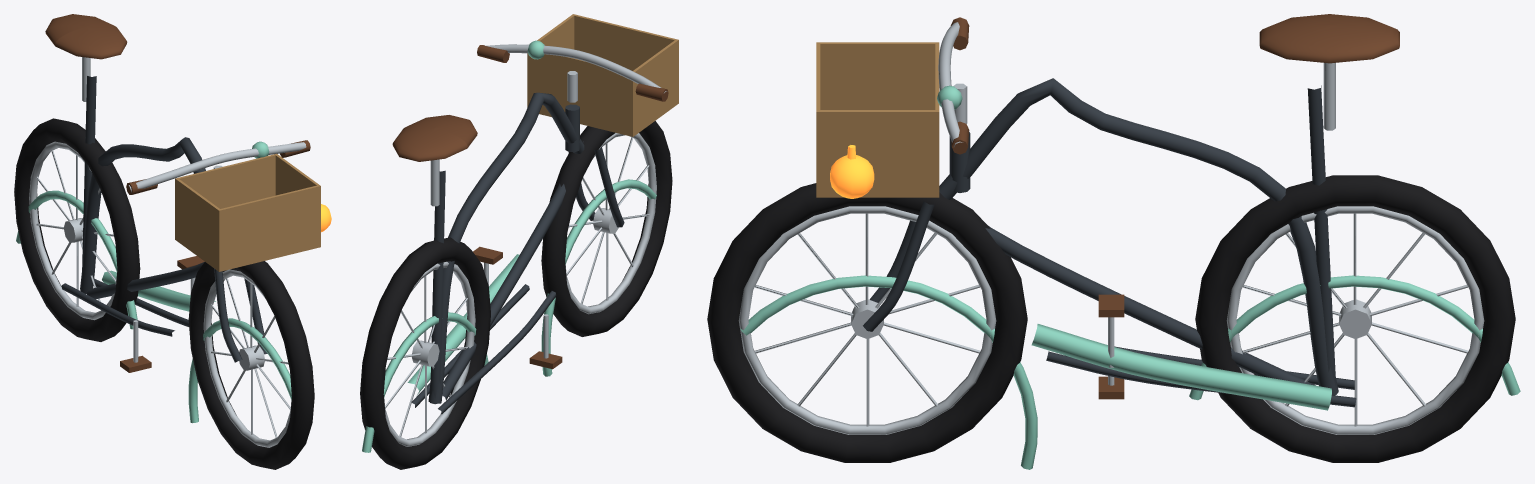
File: bike.7fed601e.glb
The picture shows the model from 3 angles, left to right: view 1: azimuth 30°, elevation 25°; view 2: azimuth 150°, elevation 25°; view 3: azimuth 270°, elevation 25°; orthographic projection. The views are drawn at different scales.
Visible parts, largest first — view 1: basket, wheel_R, wheel_F, frame, seat, handlebar, pedal_L; view 2: frame, wheel_R, wheel_F, basket, seat, handlebar, pedal_L, pedal_R; view 3: frame, wheel_R, wheel_F, basket, seat, handlebar, pedal_R.
Boxes of the visible parts, left/top/right/bottom form: basket: left=175, top=153, right=331, bottom=271; wheel_R: left=14, top=118, right=140, bottom=341; wheel_F: left=188, top=261, right=314, bottom=469; frame: left=16, top=76, right=291, bottom=423; seat: left=45, top=14, right=127, bottom=101; handlebar: left=126, top=140, right=310, bottom=194; pedal_L: left=120, top=320, right=151, bottom=372; frame: left=362, top=92, right=656, bottom=452; wheel_R: left=360, top=237, right=490, bottom=469; wheel_F: left=541, top=121, right=672, bottom=336; basket: left=527, top=14, right=678, bottom=136; seat: left=392, top=115, right=477, bottom=206; handlebar: left=477, top=40, right=668, bottom=102; pedal_L: left=529, top=314, right=562, bottom=369; pedal_R: left=473, top=246, right=502, bottom=286; frame: left=740, top=78, right=1520, bottom=469; wheel_R: left=1195, top=175, right=1515, bottom=462; wheel_F: left=707, top=183, right=1027, bottom=462; basket: left=816, top=42, right=939, bottom=198; seat: left=1259, top=14, right=1399, bottom=130; handlebar: left=937, top=17, right=969, bottom=154; pedal_R: left=1098, top=294, right=1124, bottom=367.
Size of the model in its own units: 0.5665 by 0.9521 by 1.58.
